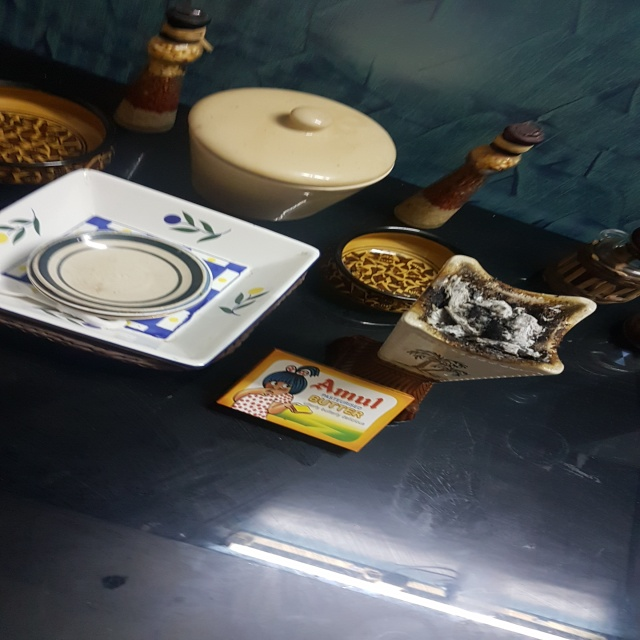butter: (219, 346, 416, 454)
